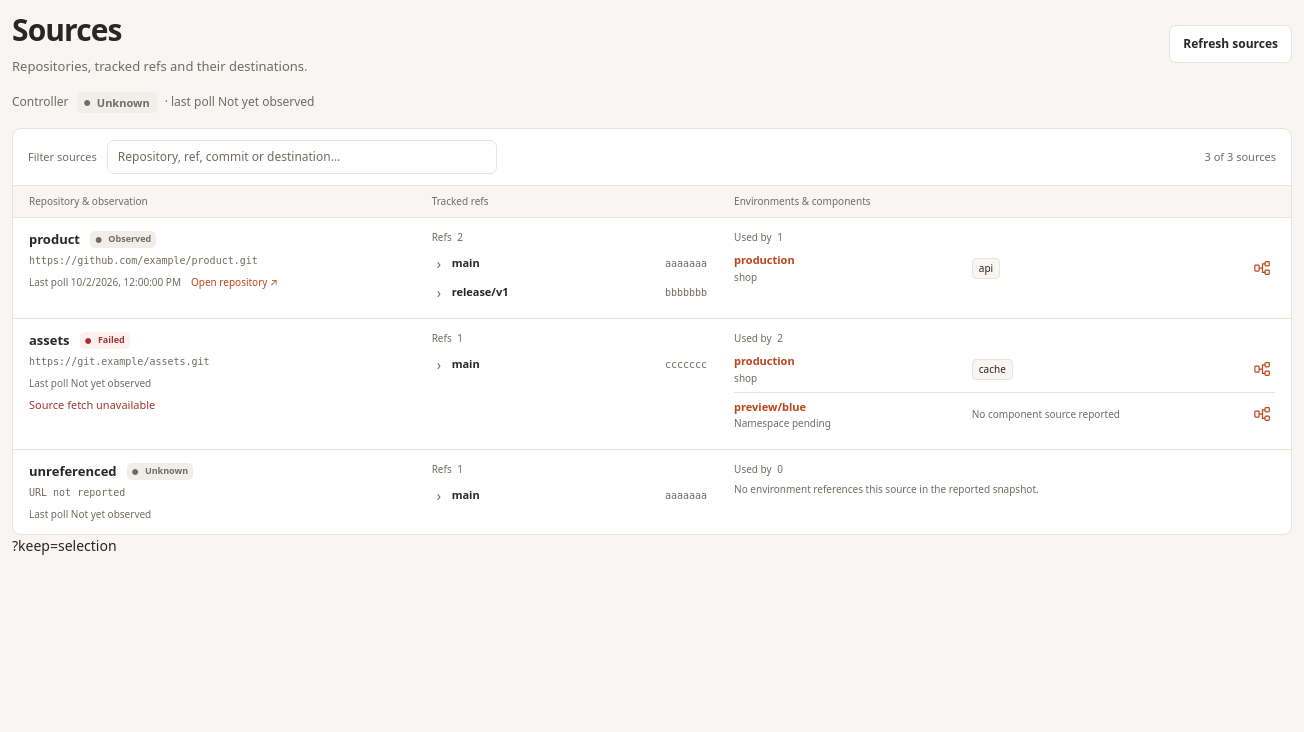
Test case: compact source inventory › searches reported component associations while preserving unrelated URL state and source details
Type "cache" into the search field labelled "Filter sources" at (302, 157), box [107,140,497,174]
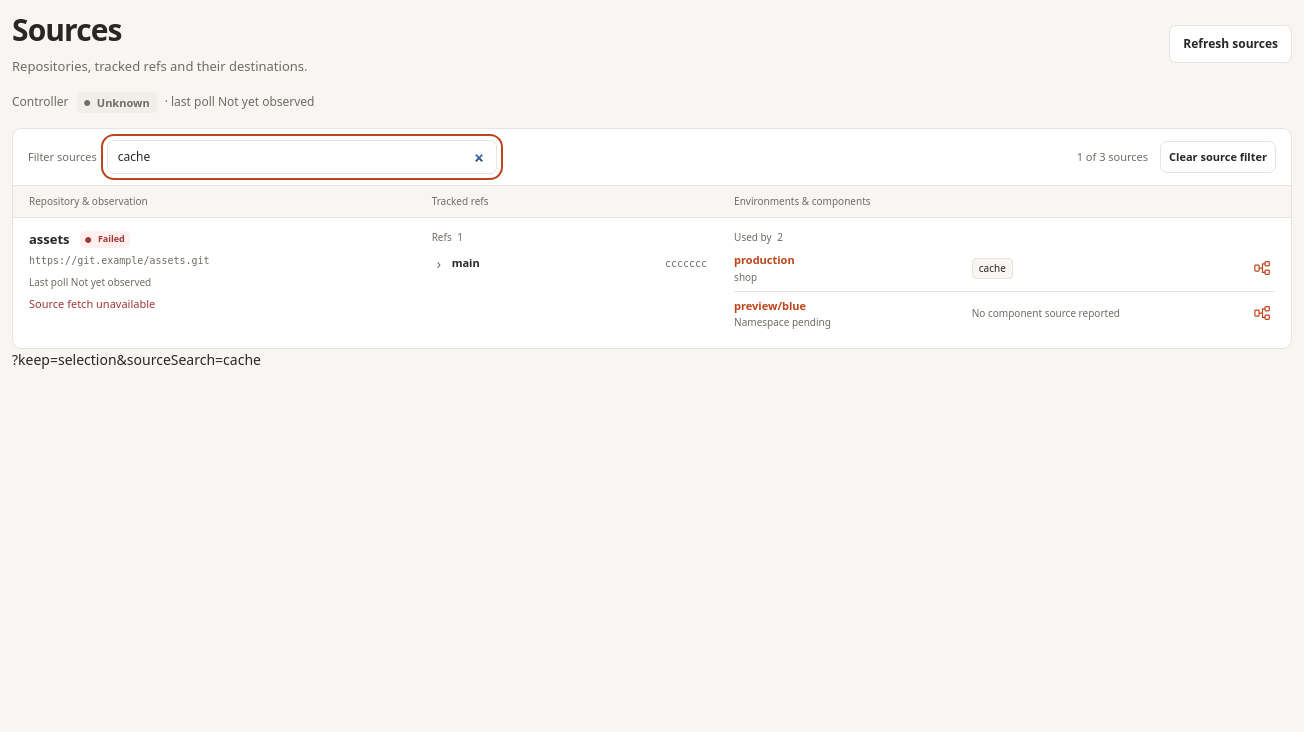
expect the text "https://git.example/assets.git" is shown: met, box [29,255,210,266]
expect the text named "Current source address" reads "?keep=selection&sourceSearch=cache": met, box [12,350,261,369]
expect the text "1 of 3 sources" is shown: met, box [1077,149,1148,165]
